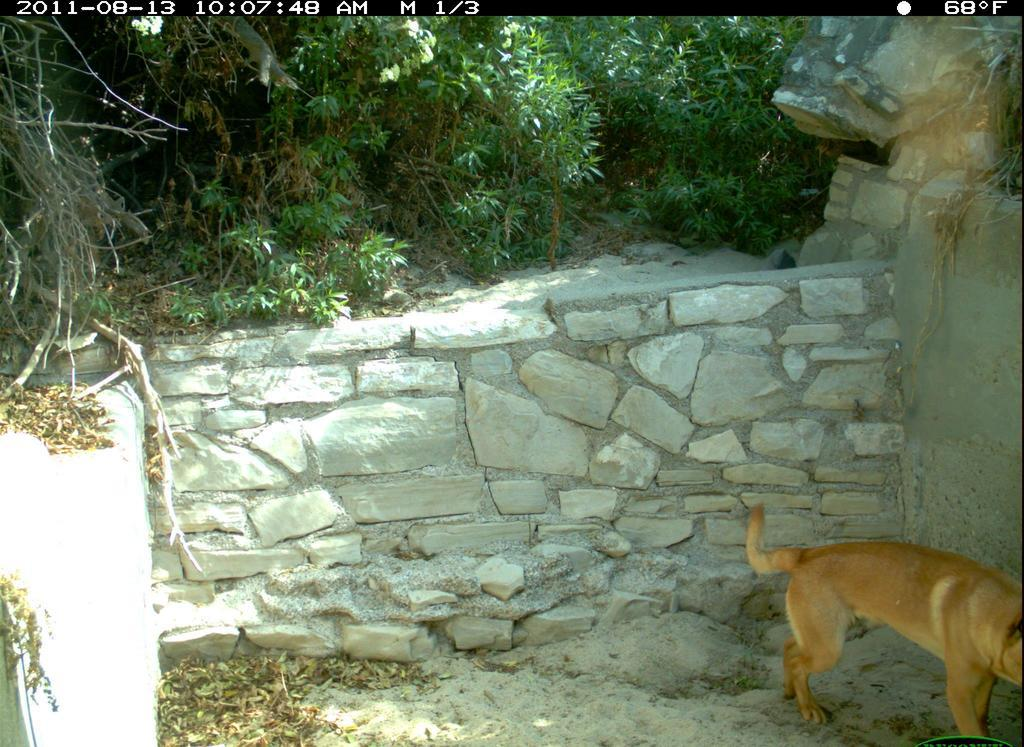dog: (735, 488, 1023, 734)
